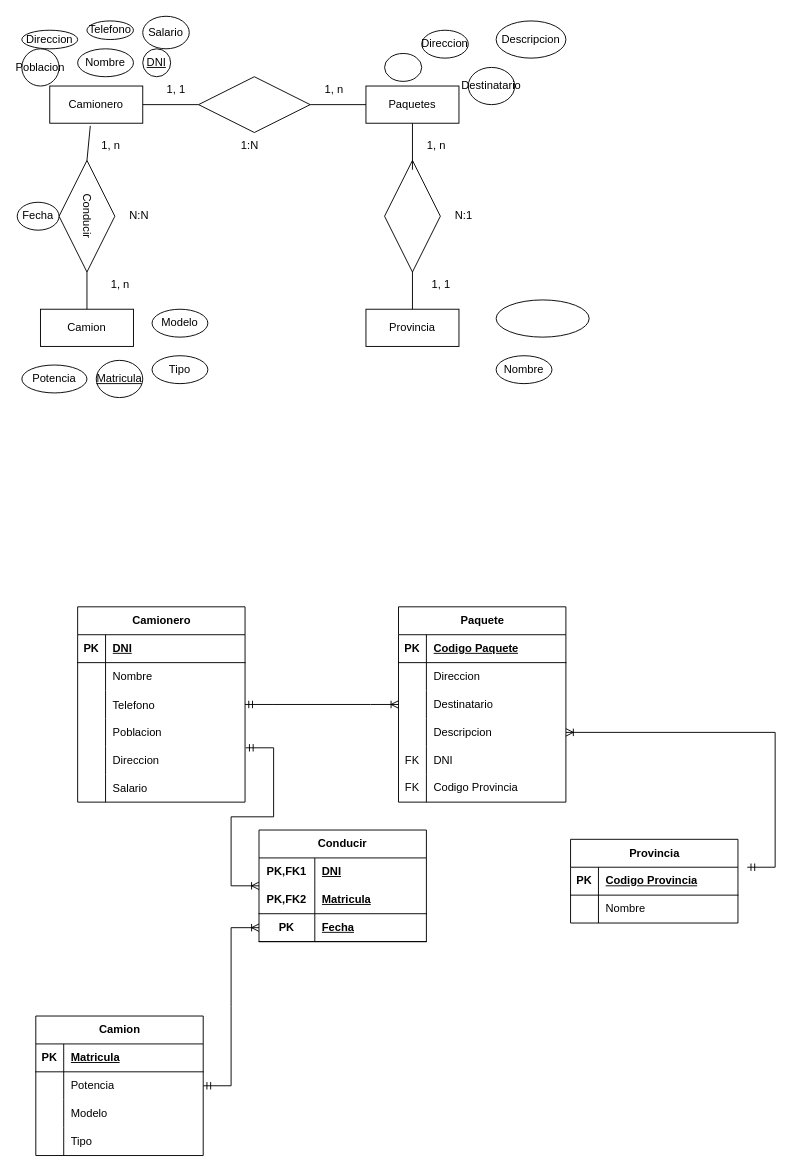
This 800x1172 diagram has some shape labels left out. The shapes that lost their labels are listed below. From the top down, each one's box as (x1, y1, x2, y2) in pixels, then its label:
(384, 53, 422, 81): Codigo
(198, 76, 310, 133): Distribuir
(384, 159, 440, 272): Llegar
(495, 299, 589, 337): CodigoProvincia
